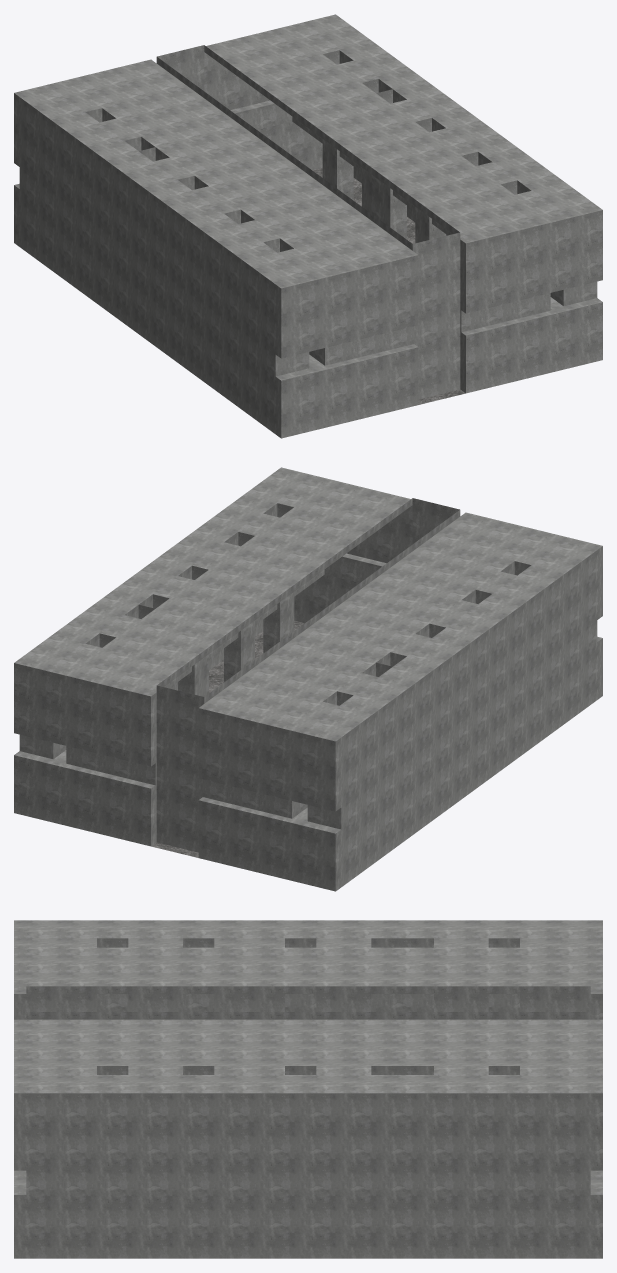
Rendered from sala.glb.
The picture shows the model from 3 angles, top to bottom: view 1: azimuth 30°, elevation 25°; view 2: azimuth 150°, elevation 25°; view 3: azimuth 270°, elevation 25°; orthographic projection. The views are drawn at different scales.
Parts seen in each view (by area): view 1: sala, pavimento; view 2: sala, pavimento; view 3: sala.
Part boxes in pixels (x1,y1,x2,y2): sala: (14,14,602,438); pavimento: (312,167,465,404); sala: (14,467,602,891); pavimento: (151,620,304,857); sala: (14,920,602,1258).
Size of the model in its own units: 50.25 by 23.43 by 72.28.
2 materials, 2 textured.
